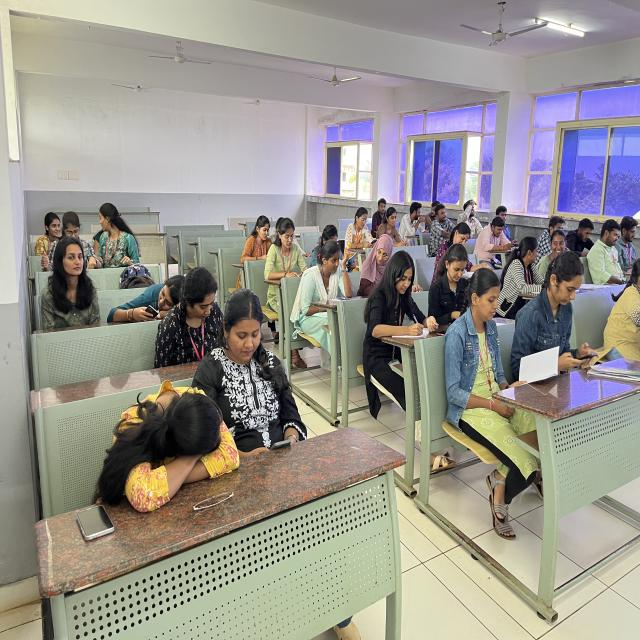Reading: (444, 268, 561, 396), (268, 216, 310, 283)
Sleeping: (102, 385, 245, 508), (105, 270, 192, 329)
Using Phone: (207, 282, 321, 466), (343, 205, 379, 250), (476, 216, 520, 252)
Writing: (363, 244, 440, 358)
